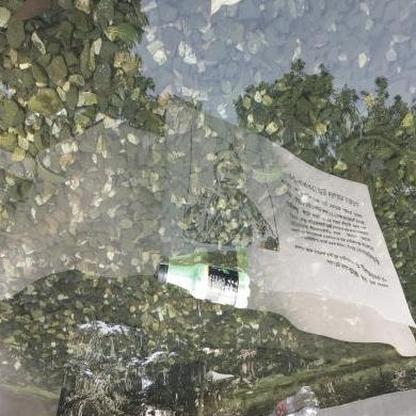plastic bottle: (156, 260, 250, 311)
